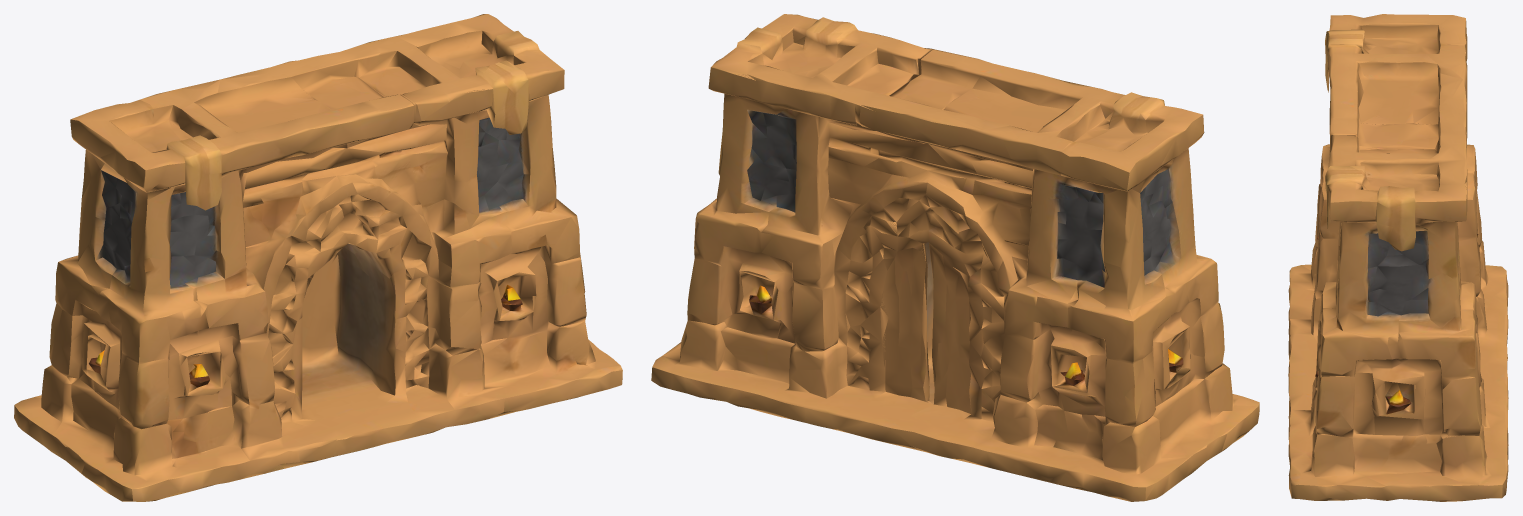
Rendered from desierto_templo.glb.
3 renders of one model, left to right at view 1: azimuth 30°, elevation 25°; view 2: azimuth 150°, elevation 25°; view 3: azimuth 270°, elevation 25°, orthographic. The views are drawn at different scales.
Visible parts, largest first — view 1: tripo_node_d5c17b7a-1e20-4b49-b570-b5210bc228fe; view 2: tripo_node_d5c17b7a-1e20-4b49-b570-b5210bc228fe; view 3: tripo_node_d5c17b7a-1e20-4b49-b570-b5210bc228fe.
Part boxes in pixels (bbox=[...]): tripo_node_d5c17b7a-1e20-4b49-b570-b5210bc228fe: bbox=[14, 14, 622, 501]; tripo_node_d5c17b7a-1e20-4b49-b570-b5210bc228fe: bbox=[651, 14, 1259, 501]; tripo_node_d5c17b7a-1e20-4b49-b570-b5210bc228fe: bbox=[1288, 14, 1508, 501].
Size of the model in its own units: 0.9994 by 0.6005 by 0.4167.
Materials: 1 (1 with a texture image).
